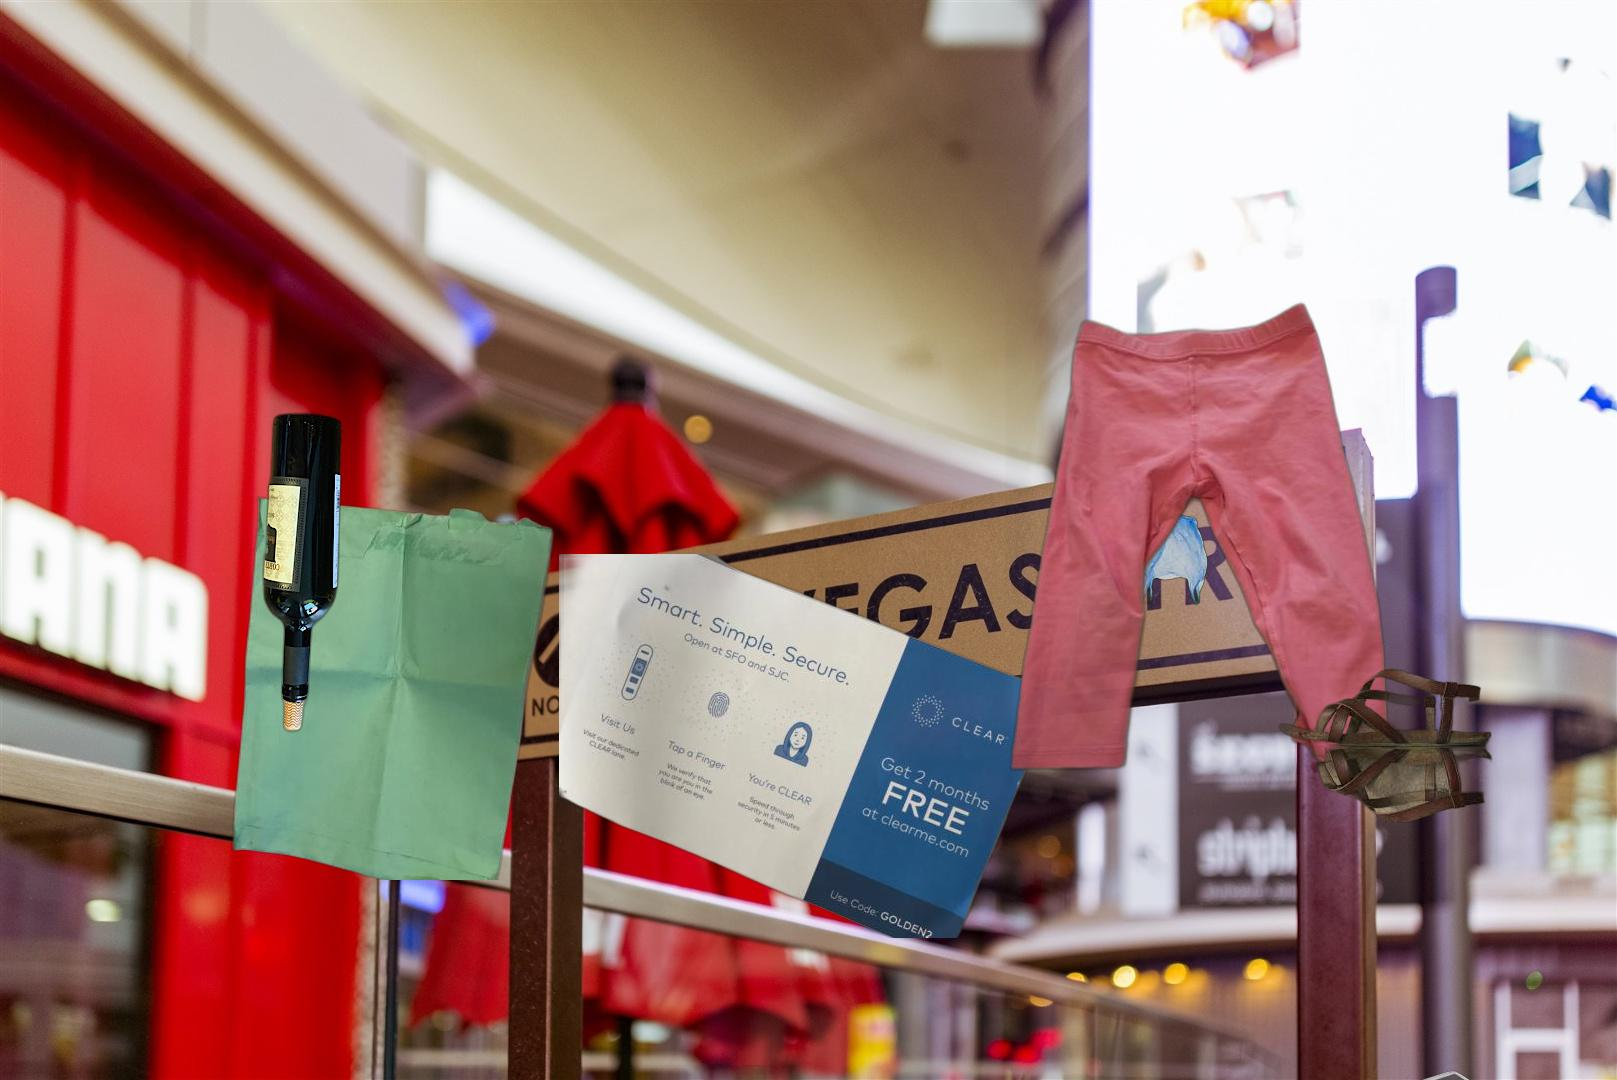battery: (1360, 1068, 1518, 1080)
clothes: (1005, 299, 1405, 833)
glass: (259, 407, 346, 736)
paper: (559, 554, 1065, 938), (229, 495, 559, 880)
paper-bag: (466, 1066, 766, 1080)
plastic-bag: (1137, 510, 1210, 607)
shoes: (1277, 667, 1494, 824)
